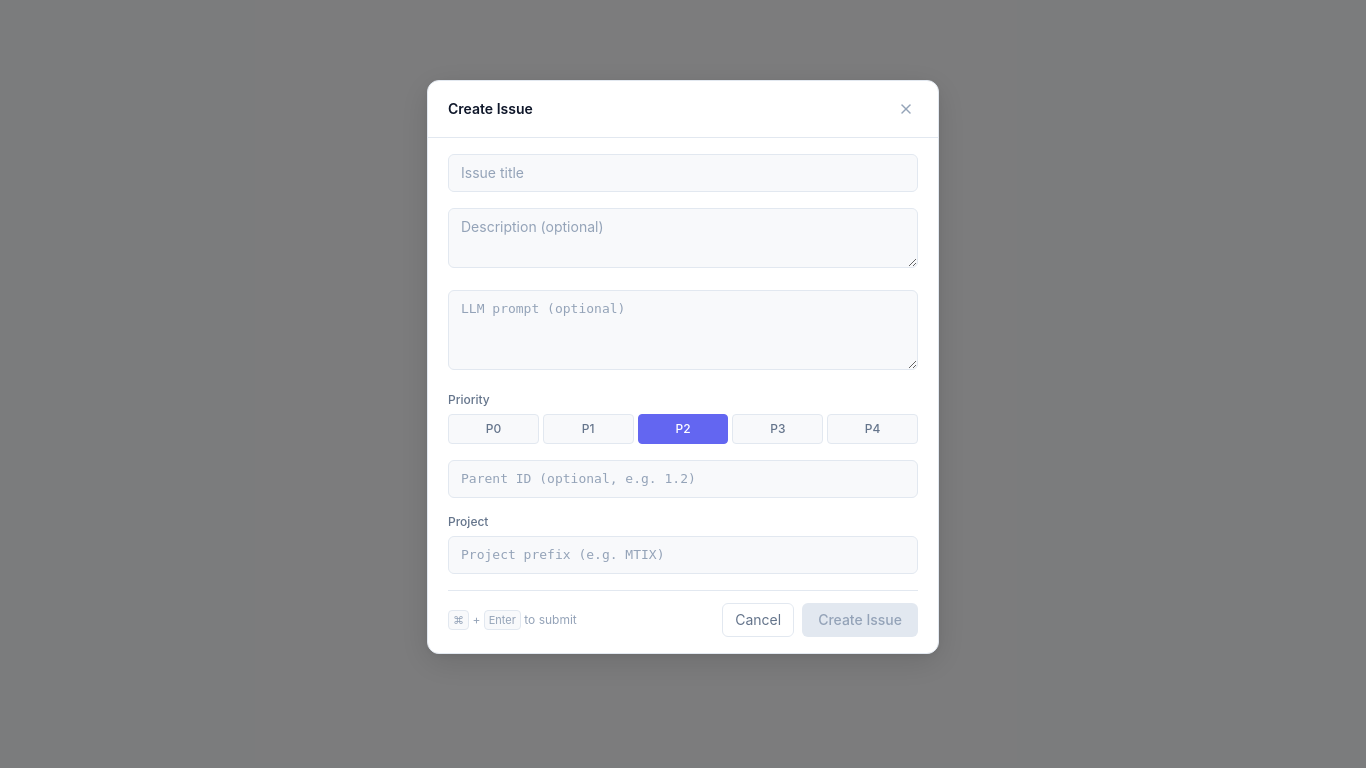
Test case: CreateNodeModal › shows API error on failure
Type "Will Fail" into the field with test id "create-title". click: (683, 173)
box: [448,154,918,192]
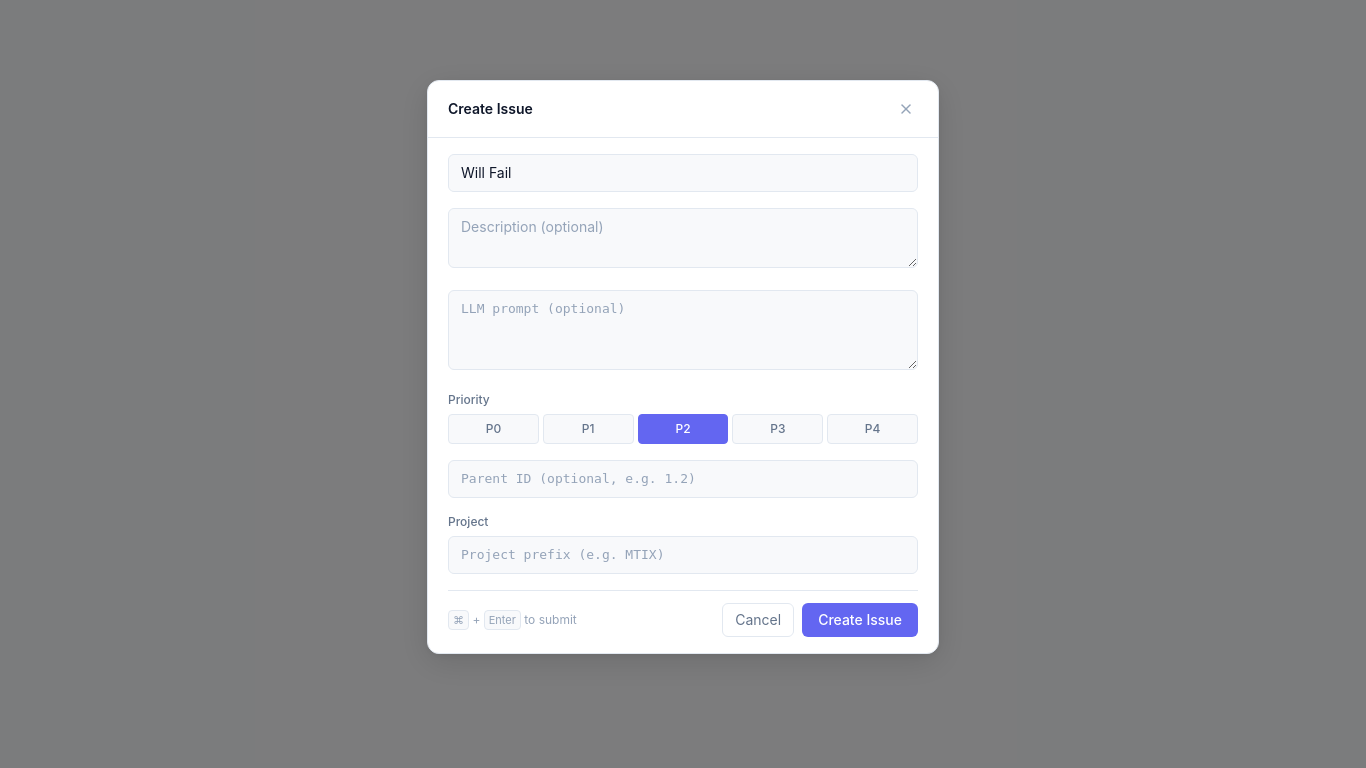
Click the button with test id "create-submit". click: click(860, 620)
box: [802,603,918,637]
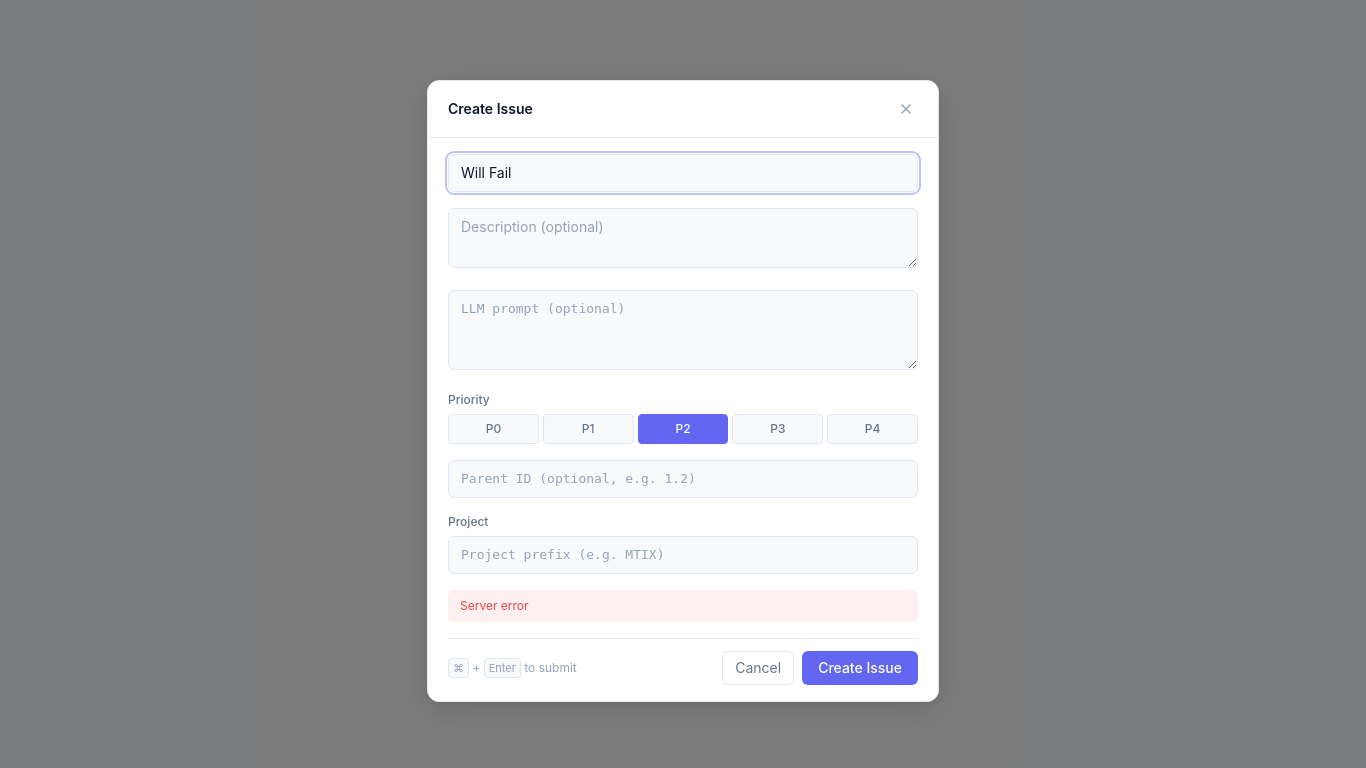
Check: the text with test id "create-error" reads "Server error", box [460,598,528,613]
